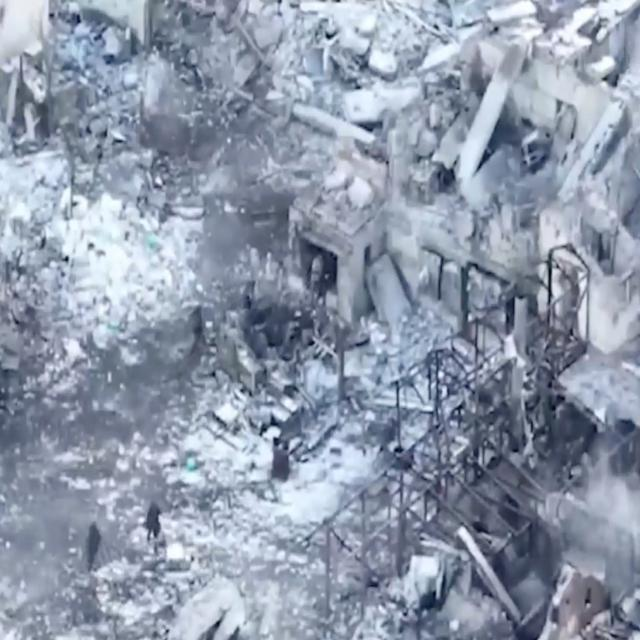infantry: (308, 246, 335, 307), (188, 301, 209, 352), (144, 498, 165, 547), (86, 518, 102, 575)
